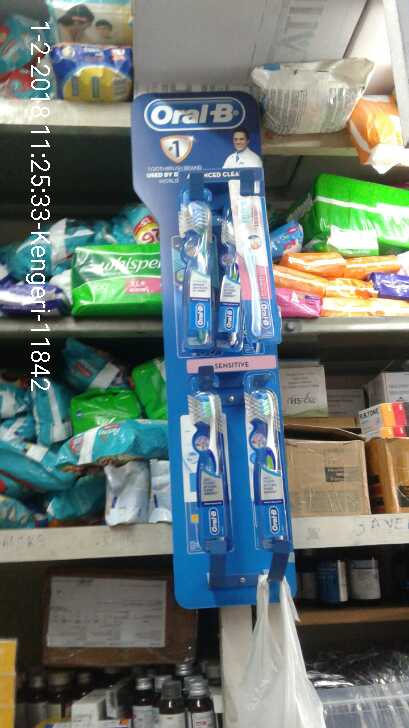pharmacy: (243, 382, 290, 542), (68, 241, 168, 316), (187, 387, 229, 554), (222, 198, 272, 338), (174, 192, 214, 344)
